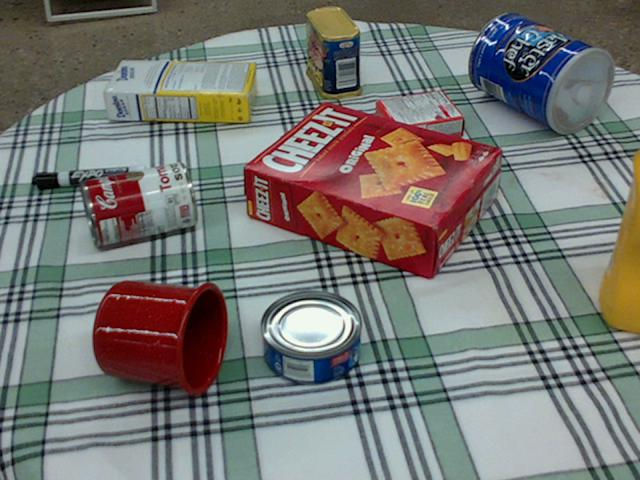cracker_box: (244, 100, 501, 276)
gelatin_box: (373, 86, 463, 148)
large_marker: (31, 165, 144, 189)
master_chef_can: (467, 13, 612, 133)
mug: (91, 278, 227, 394)
mustard_bottle: (598, 146, 639, 330)
potted_meat_can: (303, 6, 362, 98)
sugar_box: (103, 61, 257, 121)
tomato_soup_can: (79, 160, 196, 246)
tuna_fish_can: (259, 290, 361, 385)
